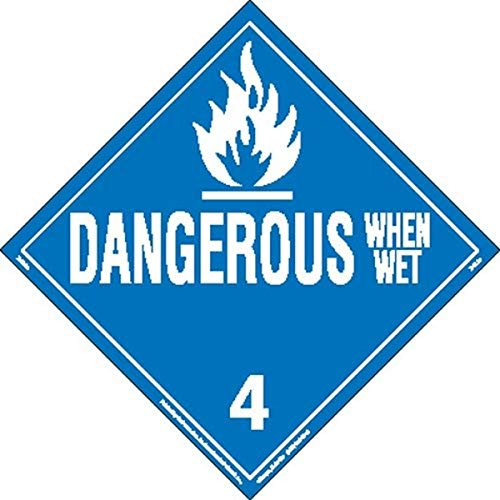Dangerous when wet: (1, 1, 500, 500)
